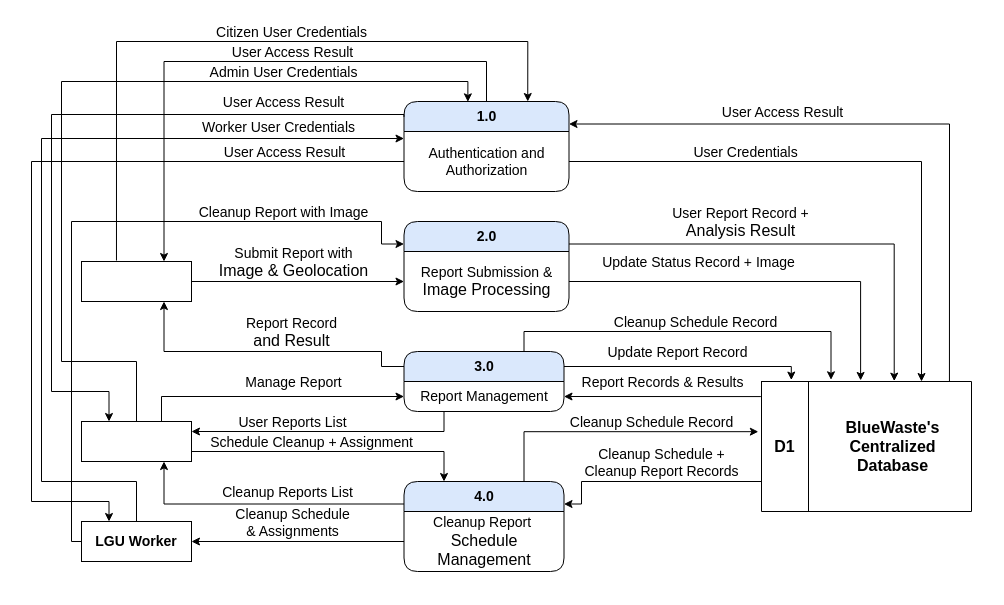
The diagram is 1004 pixels wide and 605 high, and some of its shapes have lost their labels. The shapes that lost their labels are listed below. From the top down, each one's centre as x and y in pixels, then its label:
At pixel 136 281: "Citizen".
At pixel 136 441: "LGU Admin".
